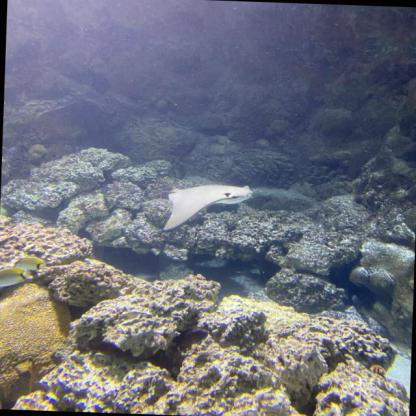fish: (9, 254, 47, 274), (0, 266, 33, 289)
stingray: (164, 182, 254, 232)
